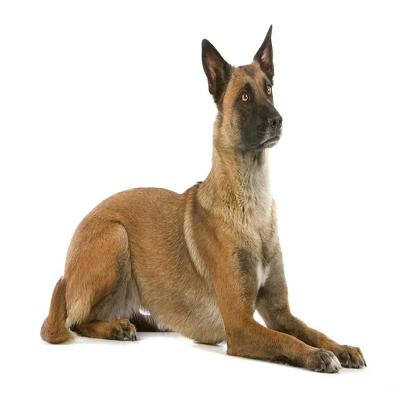Belgian Shepherd: (45, 21, 367, 390)
